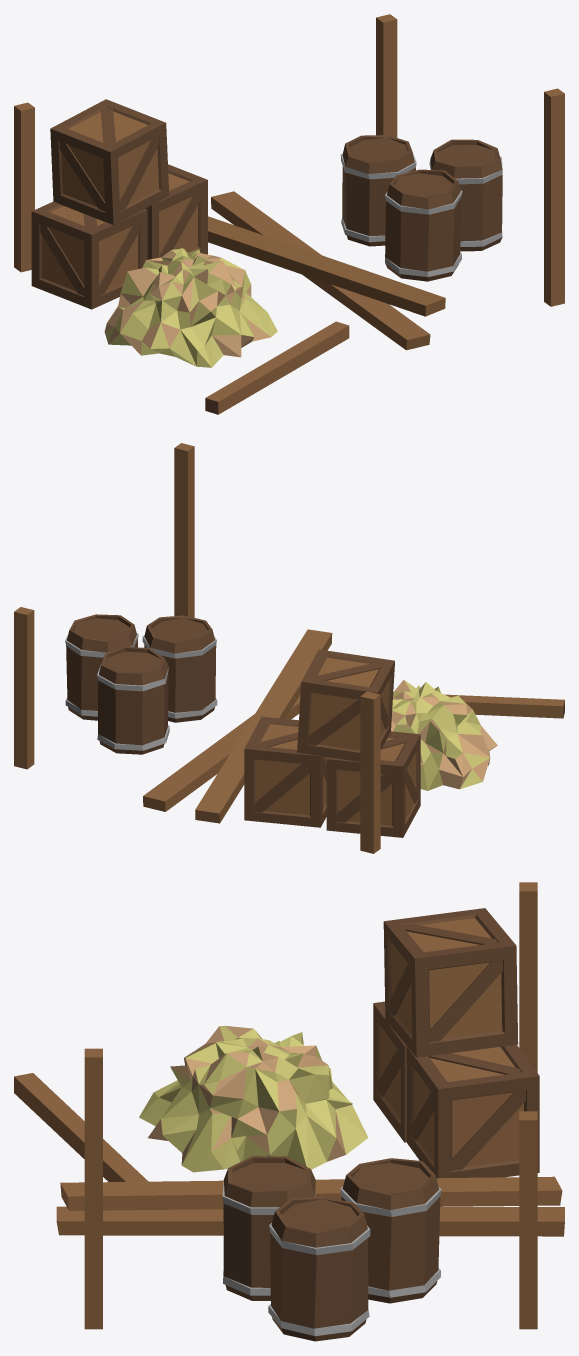
The model's file is Warehouse_build_mat.fbx.
The picture shows the model from 3 angles, top to bottom: view 1: azimuth 30°, elevation 25°; view 2: azimuth 150°, elevation 25°; view 3: azimuth 270°, elevation 25°; orthographic projection. The views are drawn at different scales.
Visible parts, largest first — view 1: Warehouse_build_mat; view 2: Warehouse_build_mat; view 3: Warehouse_build_mat.
Boxes of the visible parts, left/top/right/bottom form: Warehouse_build_mat: left=14, top=14, right=564, bottom=414; Warehouse_build_mat: left=14, top=443, right=564, bottom=853; Warehouse_build_mat: left=14, top=882, right=564, bottom=1341.
Size of the model in its own units: 3.61 by 1.77 by 3.23.
